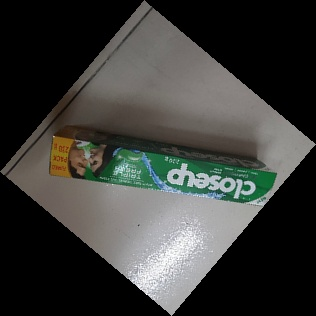CloseUp Xanh: (49, 125, 278, 212)
